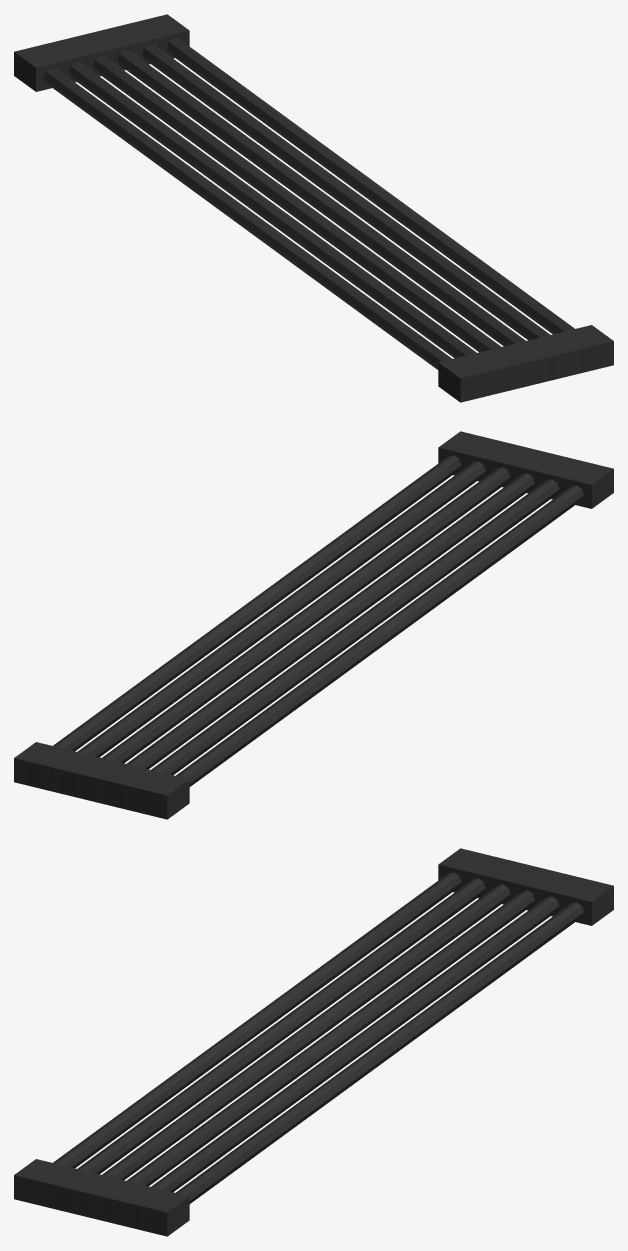
Rendered from Wires_1m_v2.fbx.
The picture shows the model from 3 angles, top to bottom: view 1: azimuth 30°, elevation 25°; view 2: azimuth 150°, elevation 25°; view 3: azimuth 330°, elevation 25°; orthographic projection.
Parts seen in each view (by area): view 1: Wires1; view 2: Wires1; view 3: Wires1.
Part boxes in pixels (x1,y1,x2,y2): Wires1: [14, 14, 613, 402]; Wires1: [14, 431, 613, 819]; Wires1: [14, 848, 613, 1236].
Size of the model in its own units: 20 by 3 by 101.
